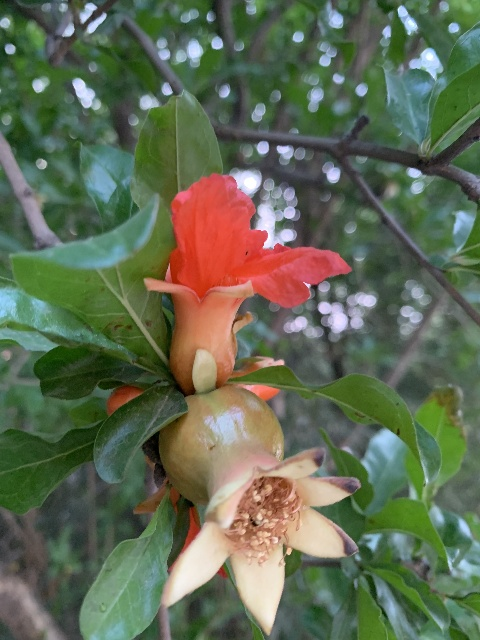early-fruit: (144, 386, 362, 632)
flower: (143, 173, 351, 393)
